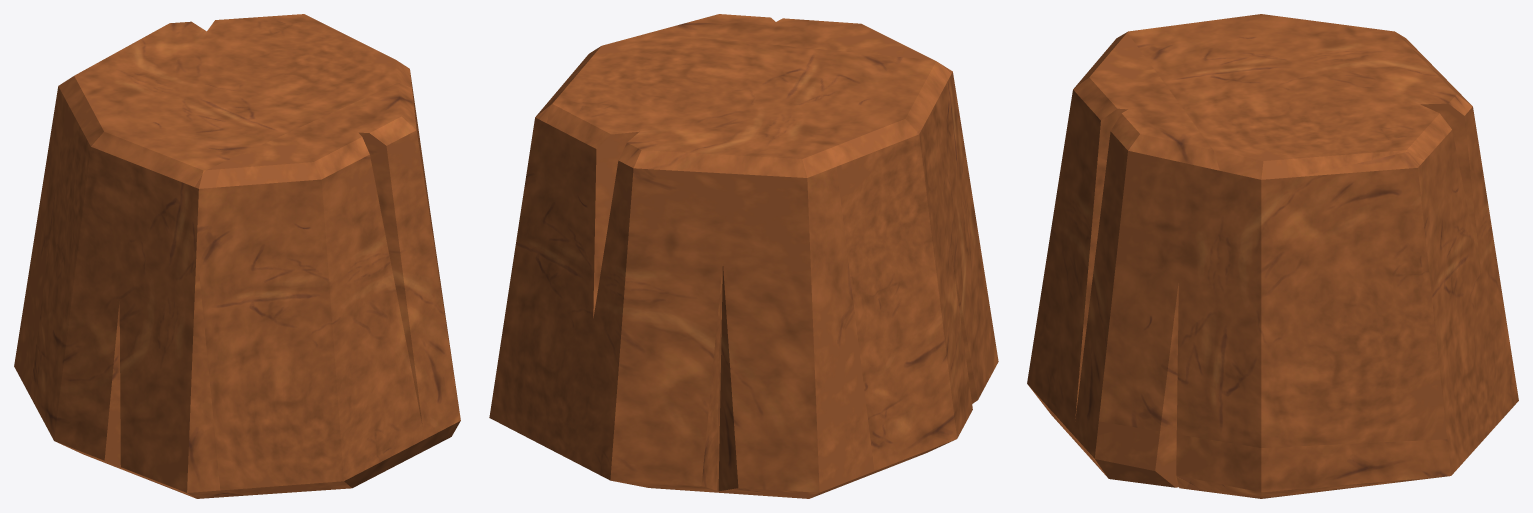
Rendered from rock1.fbx.
3 views of the same model, side by side, from view 1: azimuth 30°, elevation 25°; view 2: azimuth 150°, elevation 25°; view 3: azimuth 270°, elevation 25° (orthographic). The views are drawn at different scales.
Parts seen in each view (by area): view 1: 1; view 2: 1; view 3: 1.
Boxes of the visible parts, left/top/right/bottom form: 1: left=14, top=14, right=460, bottom=498; 1: left=489, top=14, right=998, bottom=498; 1: left=1027, top=14, right=1518, bottom=498.
Size of the model in its own units: 34.19 by 26.45 by 36.01.
Materials: 1 (1 with a texture image).
